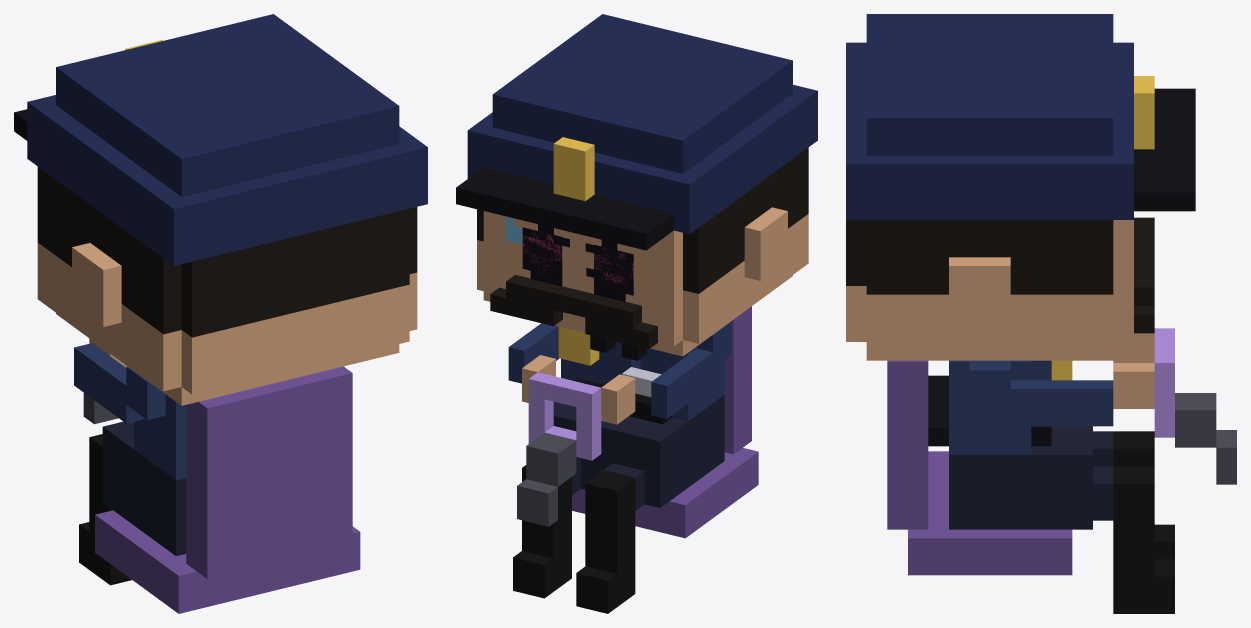
File: personaje_guardia_piloto.obj
3 views of the same model, side by side, from view 1: azimuth 30°, elevation 25°; view 2: azimuth 150°, elevation 25°; view 3: azimuth 270°, elevation 25° (orthographic). The views are drawn at different scales.
Visible parts, largest first — view 1: gorra, asiento, pelo, cabeza, falda, orejas, torso, manga_izq, brazo_izq, bota_izq, suela_izq, manga_izq_borde (+1 smaller); view 2: gorra, cabeza, falda, asiento, gorra_visera, pelo, bigote, bota_izq, volante, volante_columna, bota_der, cara_feliz_ojos (+22 smaller); view 3: gorra, cabeza, pelo, asiento, falda, gorra_visera, torso, bota_der, orejas, manga_der, volante_columna, bigote (+13 smaller).
Boxes of the visible parts, x1=… form: gorra: x1=27, y1=14, x2=427, y2=265; asiento: x1=95, y1=366, x2=360, y2=613; pelo: x1=37, y1=166, x2=417, y2=337; cabeza: x1=37, y1=242, x2=417, y2=405; falda: x1=102, y1=421, x2=186, y2=555; orejas: x1=72, y1=243, x2=121, y2=326; torso: x1=134, y1=394, x2=186, y2=480; manga_izq: x1=84, y1=350, x2=144, y2=423; brazo_izq: x1=126, y1=366, x2=165, y2=419; bota_izq: x1=79, y1=456, x2=112, y2=566; suela_izq: x1=79, y1=544, x2=131, y2=585; manga_izq_borde: x1=74, y1=343, x2=102, y2=392; gorra: x1=467, y1=14, x2=817, y2=234; cabeza: x1=477, y1=211, x2=808, y2=356; falda: x1=553, y1=395, x2=724, y2=507; asiento: x1=572, y1=306, x2=758, y2=538; gorra_visera: x1=456, y1=167, x2=673, y2=250; pelo: x1=477, y1=147, x2=808, y2=293; bigote: x1=490, y1=275, x2=657, y2=349; bota_izq: x1=576, y1=495, x2=635, y2=597; volante: x1=528, y1=372, x2=601, y2=460; volante_columna: x1=517, y1=432, x2=576, y2=526; bota_der: x1=513, y1=479, x2=571, y2=581; cara_feliz_ojos: x1=530, y1=229, x2=625, y2=301; gorra: x1=846, y1=14, x2=1133, y2=219; cabeza: x1=846, y1=220, x2=1133, y2=360; pelo: x1=846, y1=220, x2=1113, y2=294; asiento: x1=887, y1=360, x2=1072, y2=575; falda: x1=949, y1=426, x2=1092, y2=529; gorra_visera: x1=1134, y1=88, x2=1195, y2=211; torso: x1=949, y1=360, x2=1031, y2=454; bota_der: x1=1113, y1=502, x2=1174, y2=595; orejas: x1=949, y1=257, x2=1010, y2=321; manga_der: x1=1010, y1=380, x2=1092, y2=426; volante_columna: x1=1175, y1=393, x2=1236, y2=484; bigote: x1=1134, y1=217, x2=1154, y2=333.
Bounding box in the file's own units: 0.64 × 1.12 × 0.76.
